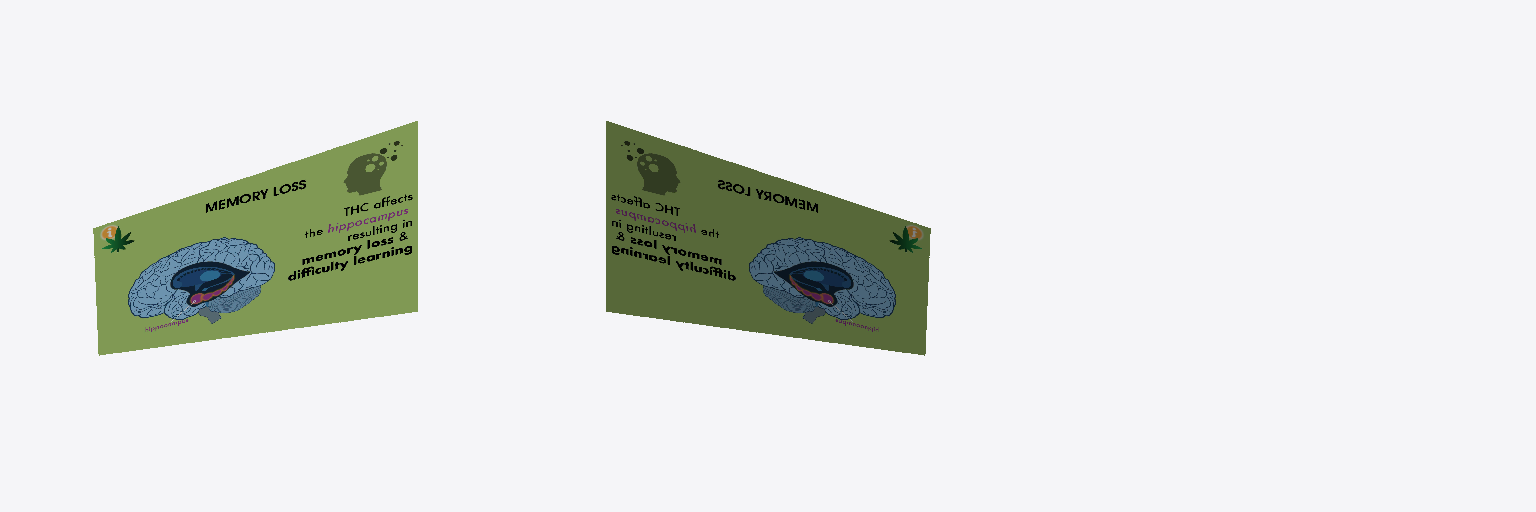
The picture shows the model from 3 angles: view 1: azimuth 30°, elevation 25°; view 2: azimuth 150°, elevation 25°; view 3: azimuth 270°, elevation 25°; orthographic projection.
Parts seen in each view (by area): view 1: Quad; view 2: Quad; view 3: none.
Part boxes in pixels (bbox=[...]): Quad: bbox=[93, 121, 417, 355]; Quad: bbox=[606, 121, 930, 355].
Bounding box in the file's own units: 2.01 × 1.52 × 0.
1 materials, 1 textured.